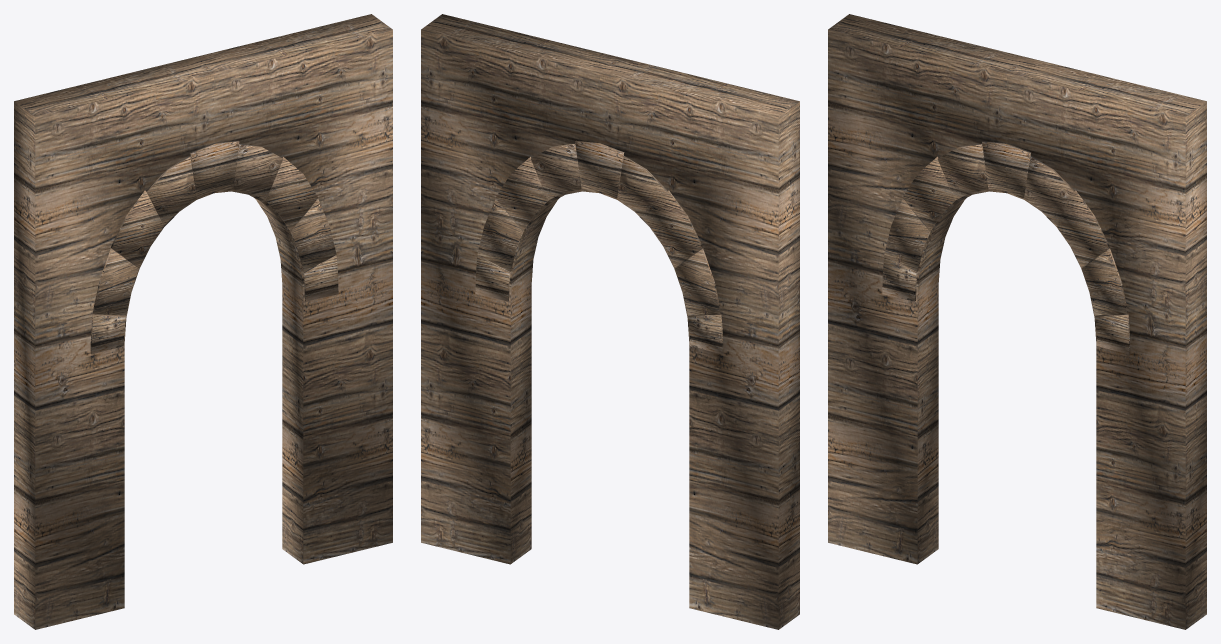
File: wood door3.glb
3 renders of one model, left to right at view 1: azimuth 30°, elevation 25°; view 2: azimuth 150°, elevation 25°; view 3: azimuth 330°, elevation 25°, orthographic.
Visible parts, largest first — view 1: Circular Doorway.001; view 2: Circular Doorway.001; view 3: Circular Doorway.001.
Part boxes in pixels (x1,y1,x2,y2): Circular Doorway.001: (14, 14, 392, 629); Circular Doorway.001: (421, 14, 799, 629); Circular Doorway.001: (828, 14, 1206, 629).
Size of the model in its own units: 2 by 2.74 by 0.225.
Materials: 2 (2 with a texture image).
